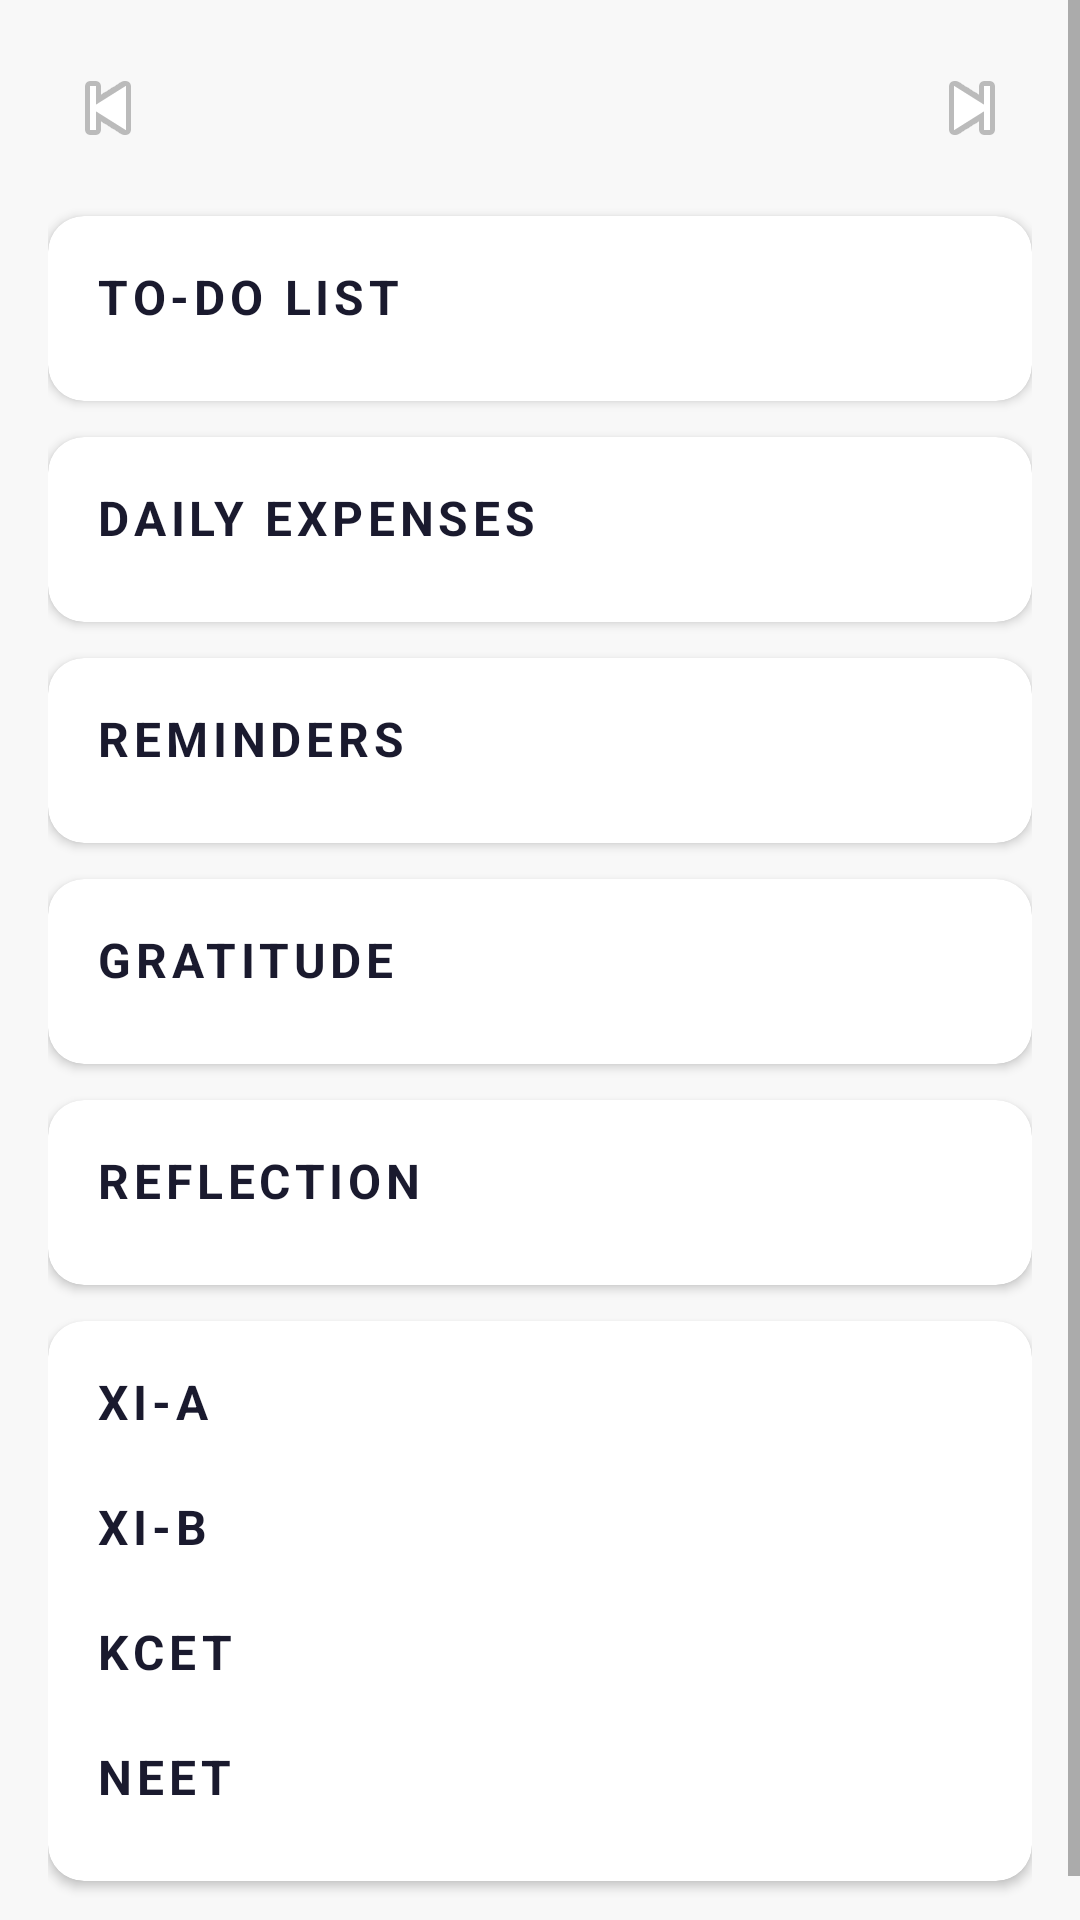

Screen size 1080 x 1920. Icon name, then its box in pixels as (x1,y1,x2,y2):
Next day: (949,81,995,135)
Previous day: (85,81,131,135)
